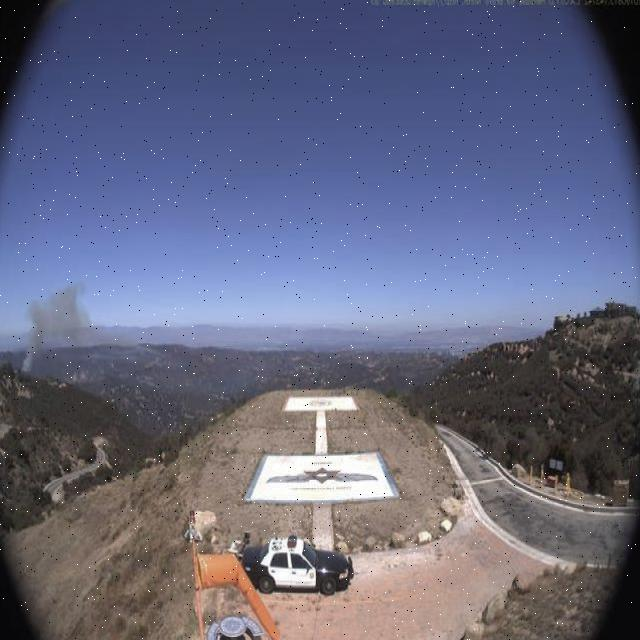smoke: (19, 277, 103, 380)
